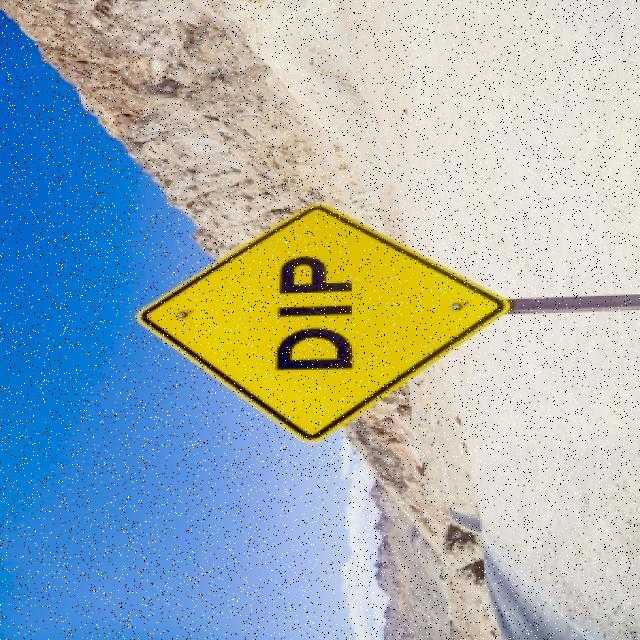Traffic sign: (133, 198, 515, 450)
